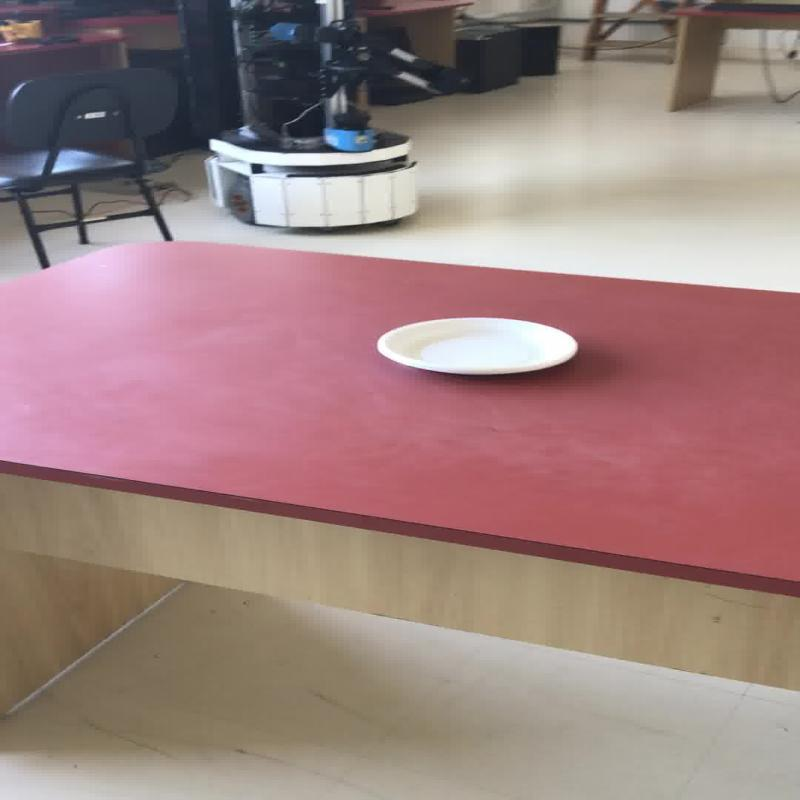plate: (374, 316, 577, 376)
